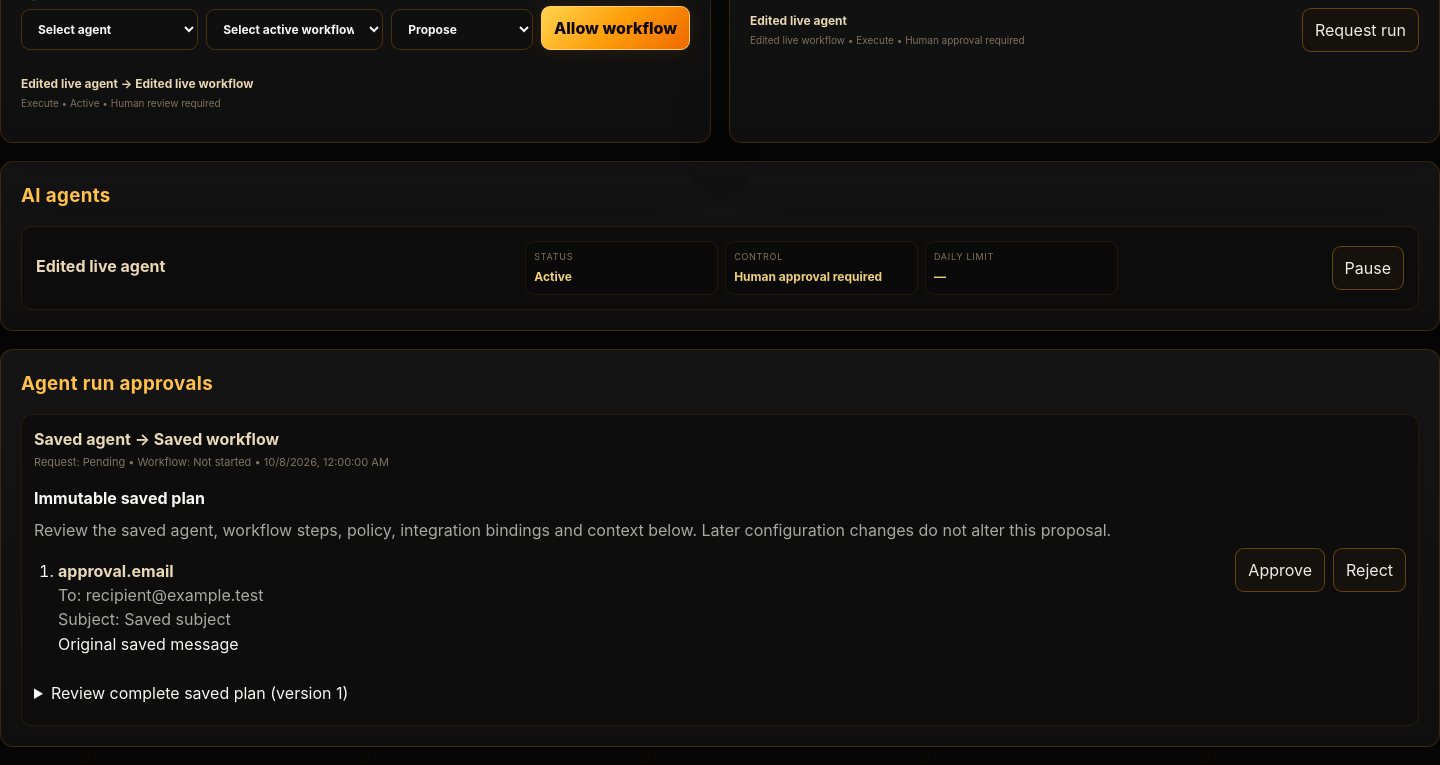
it: agent human review and immutable plan › does not convert malformed review acknowledgements to approval
(page scrolled)
Click the button "Approve".
click(1280, 570)  # box [1235,548,1325,592]
(page scrolled)
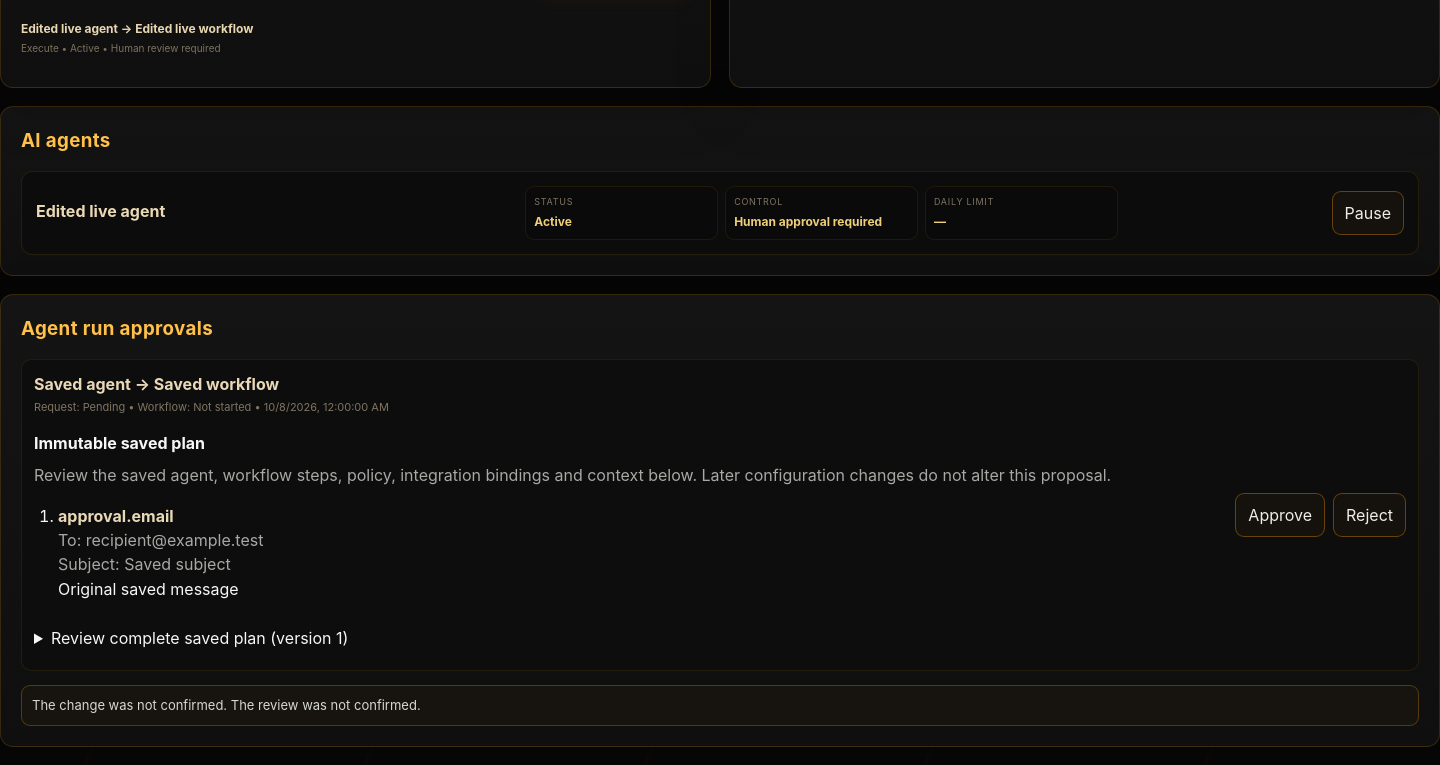
Now the message shows "review was not confirmed", box [32,697,421,713]
